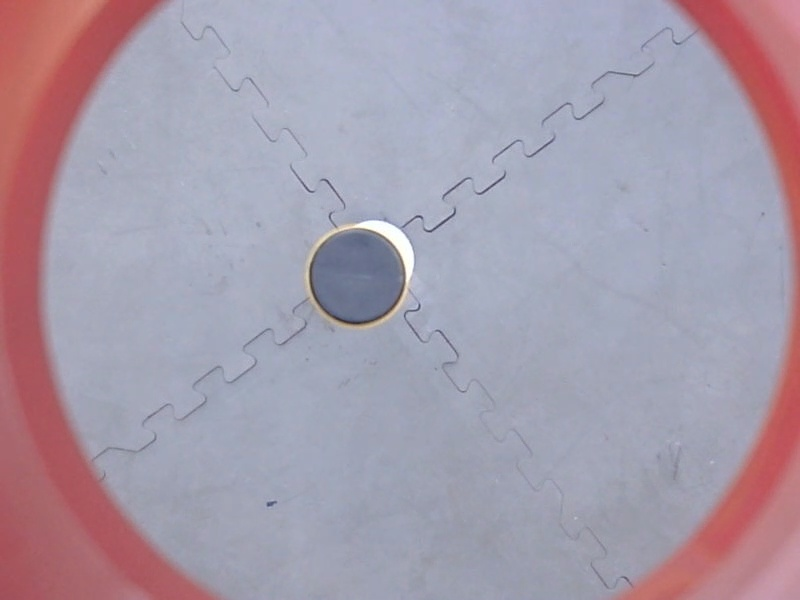tip: (299, 219, 413, 335)
